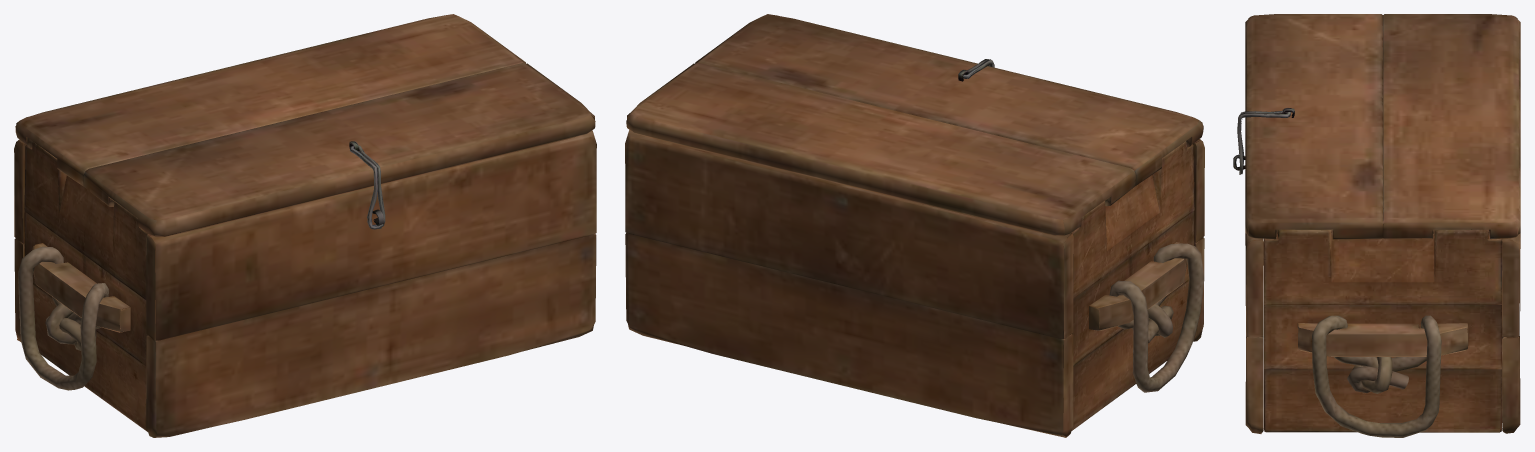
File: wooden_crate_01.glb
The picture shows the model from 3 angles, left to right: view 1: azimuth 30°, elevation 25°; view 2: azimuth 150°, elevation 25°; view 3: azimuth 270°, elevation 25°; orthographic projection. The views are drawn at different scales.
Parts seen in each view (by area): view 1: wooden_crate_01; view 2: wooden_crate_01; view 3: wooden_crate_01.
Boxes of the visible parts, x1,y1,x2,y2 form: wooden_crate_01: (14, 14, 596, 437); wooden_crate_01: (625, 14, 1204, 437); wooden_crate_01: (1233, 14, 1520, 437).
Size of the model in its own units: 0.8247 by 0.3496 by 0.4086.
Materials: 1 (1 with a texture image).
